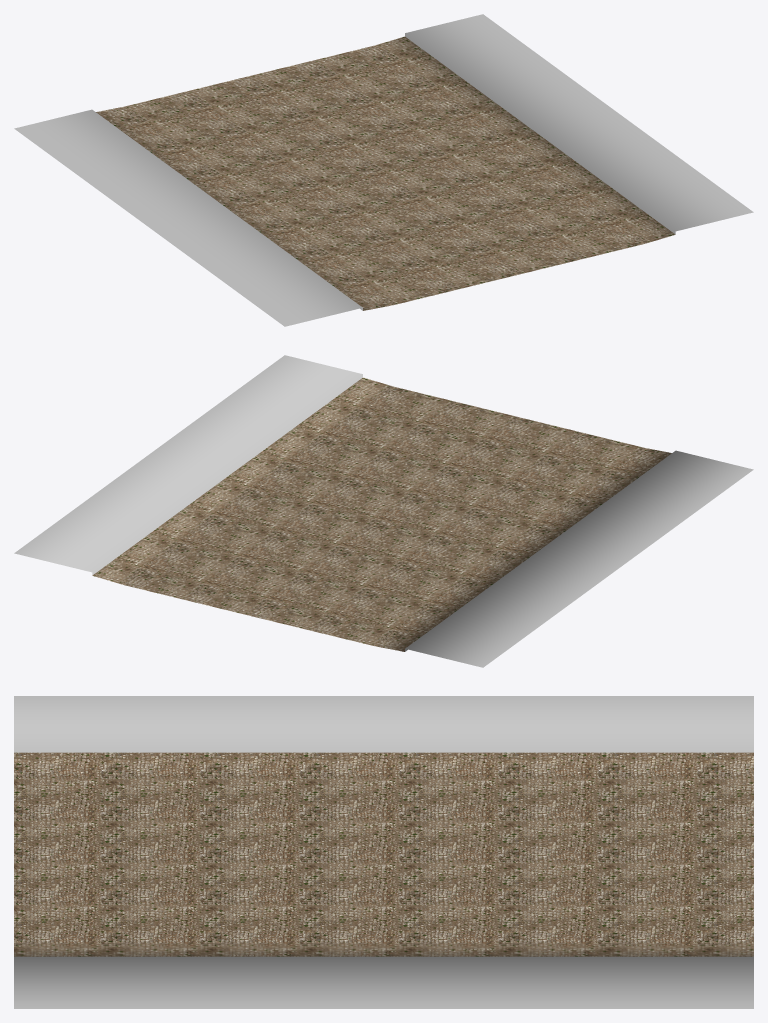
File: SM_Track_GroundLevel_01.gltf
The picture shows the model from 3 angles, top to bottom: view 1: azimuth 30°, elevation 25°; view 2: azimuth 150°, elevation 25°; view 3: azimuth 270°, elevation 25°; orthographic projection. The views are drawn at different scales.
Parts seen in each view (by area): view 1: SM_Track_GroundLevel_01; view 2: SM_Track_GroundLevel_01; view 3: SM_Track_GroundLevel_01.
Part boxes in pixels (x1,y1,x2,y2): SM_Track_GroundLevel_01: [14, 14, 753, 326]; SM_Track_GroundLevel_01: [14, 355, 753, 667]; SM_Track_GroundLevel_01: [14, 696, 753, 1008].
Bounding box in the file's own units: 30 × 0.3 × 30.
